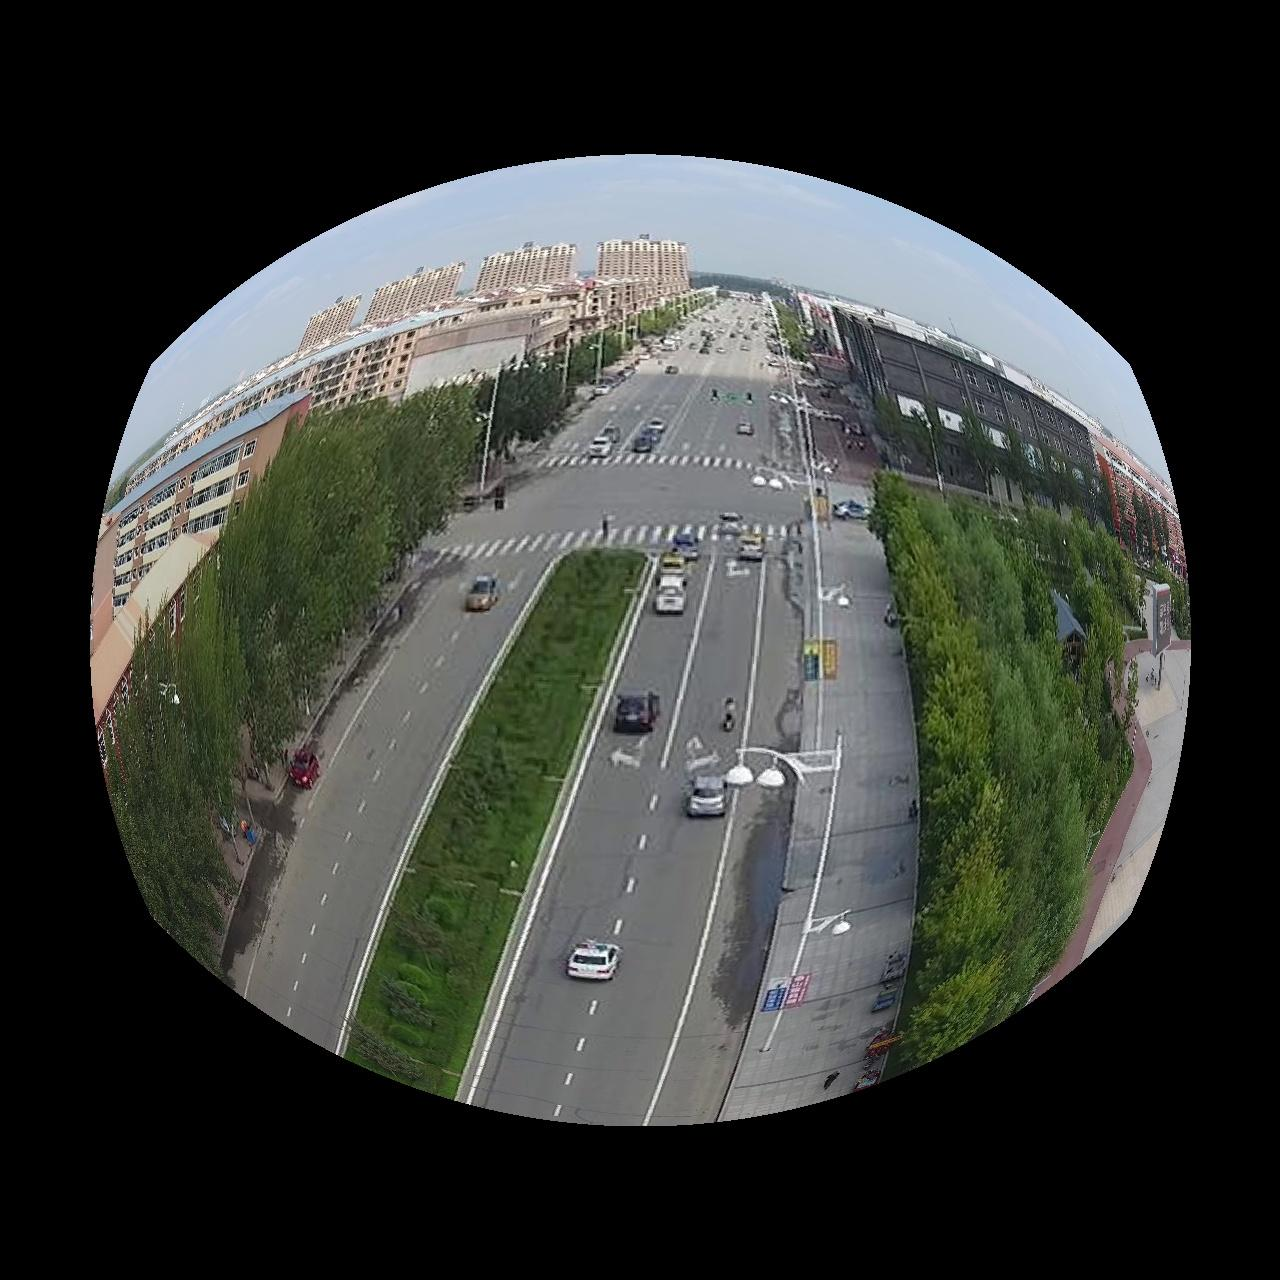building: (803, 294, 1112, 519), (165, 297, 610, 449), (104, 395, 309, 567), (297, 241, 581, 353), (1111, 442, 1189, 579), (579, 236, 692, 315)
cars: (567, 942, 621, 982), (614, 692, 660, 734), (687, 775, 727, 819), (653, 574, 687, 615), (287, 748, 319, 790), (465, 576, 499, 612)
trees: (181, 402, 396, 741), (104, 561, 241, 967), (912, 731, 1110, 993), (873, 472, 1143, 629), (903, 593, 1129, 770), (384, 384, 481, 557), (899, 956, 1021, 1073), (491, 358, 568, 452)
